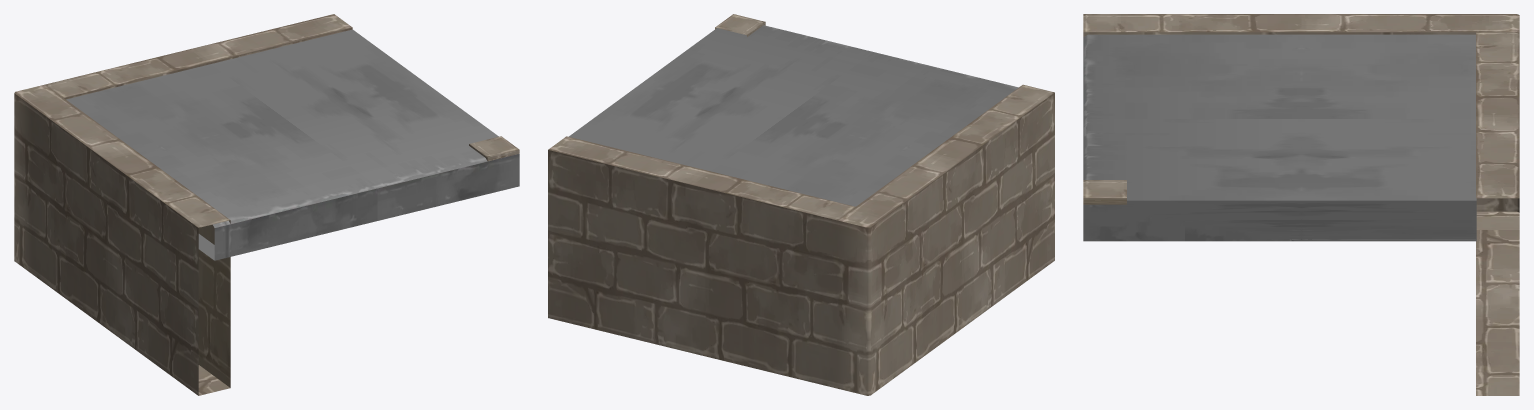
File: stairs_exterior_platform45.glb
3 views of the same model, side by side, from view 1: azimuth 30°, elevation 25°; view 2: azimuth 150°, elevation 25°; view 3: azimuth 270°, elevation 25° (orthographic). The views are drawn at different scales.
Bounding box in the file's own units: 2 × 1 × 2.
Materials: 2 (2 with a texture image).
